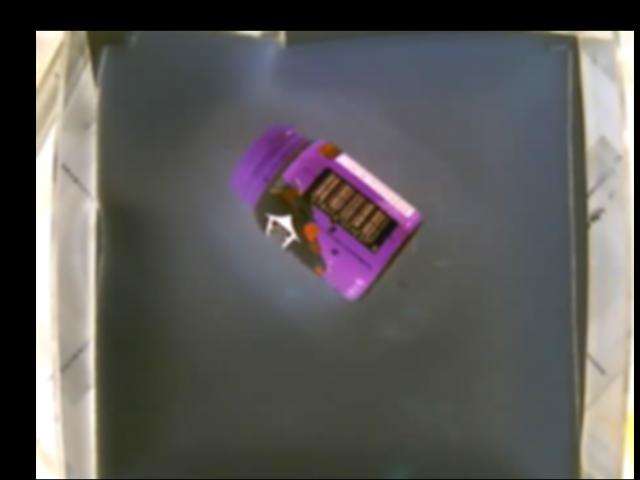Bottle: (230, 122, 422, 304)
